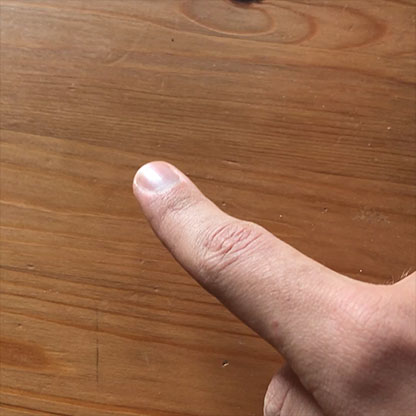fingertip: (129, 156, 191, 205)
